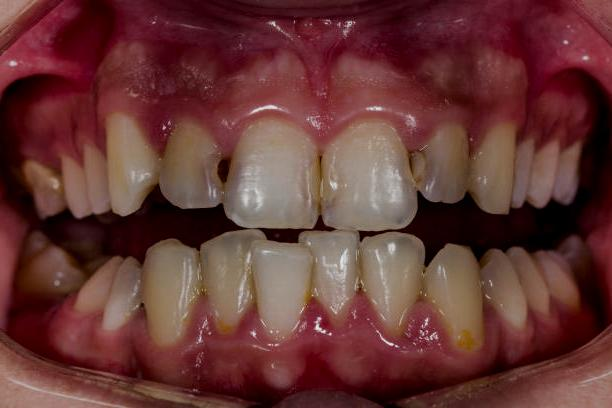Calculus: (314, 114, 416, 233), (194, 223, 267, 325), (150, 110, 223, 208), (95, 97, 157, 211), (419, 254, 492, 341), (460, 126, 522, 212)
Caries: (202, 149, 246, 199)
Discoloration: (409, 120, 477, 199)
